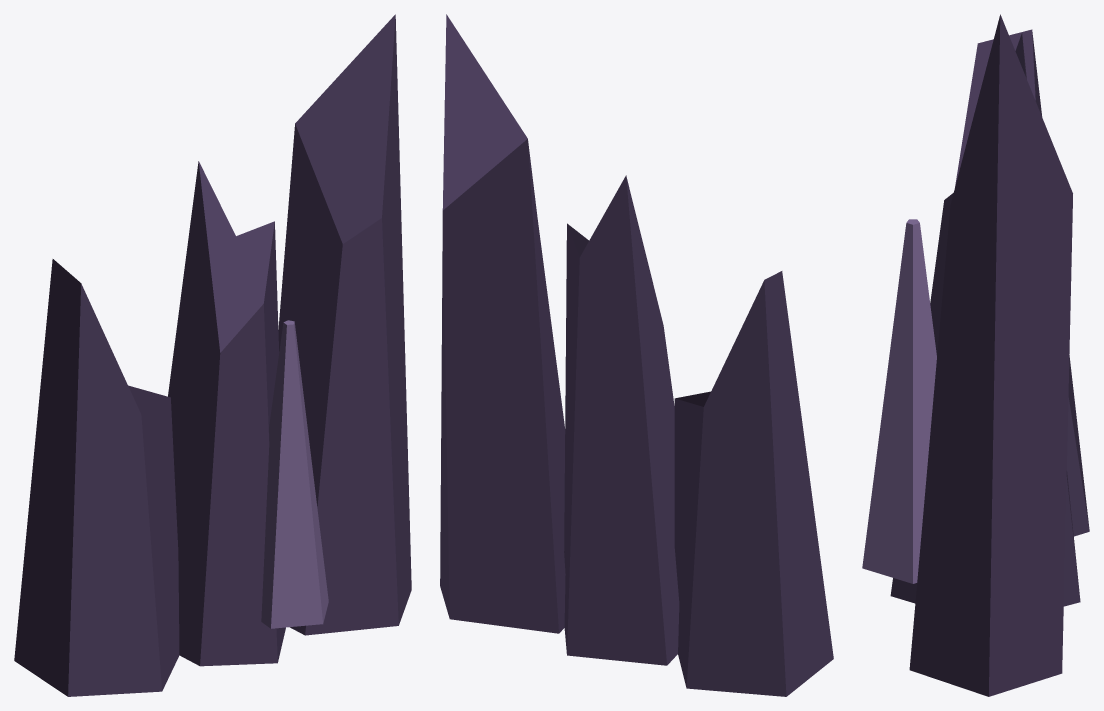
The model's file is map-boundaries-v5__dragon_01.glb.
3 views of the same model, side by side, from view 1: azimuth 30°, elevation 25°; view 2: azimuth 150°, elevation 25°; view 3: azimuth 270°, elevation 25° (orthographic). The views are drawn at different scales.
Visible parts, largest first — view 1: dragon_01; view 2: dragon_01; view 3: dragon_01.
Part boxes in pixels (<box>): dragon_01: <box>14,14,411,696</box>; dragon_01: <box>440,14,833,696</box>; dragon_01: <box>862,14,1089,696</box>.
Size of the model in its own units: 1.41 by 2.09 by 0.6377.
